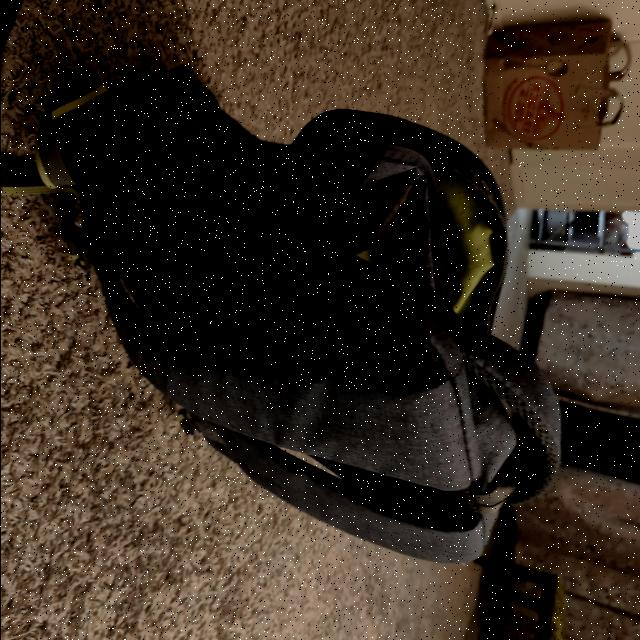bag: (83, 66, 555, 546)
